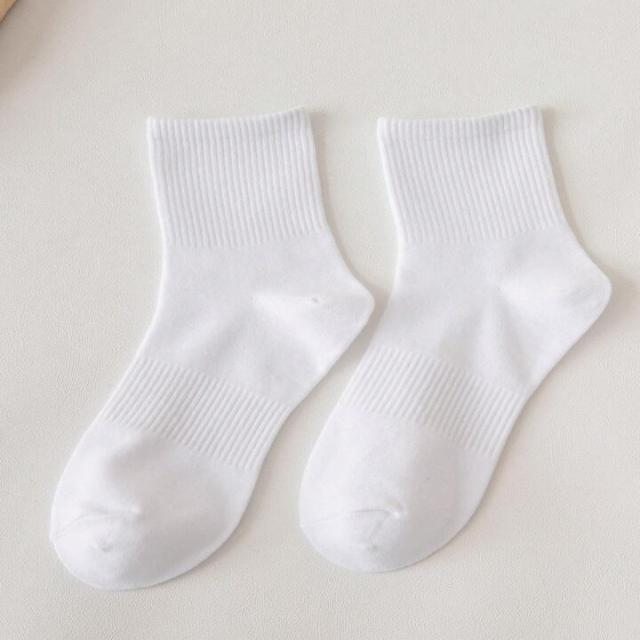sock: (48, 104, 376, 590), (297, 103, 612, 572)
